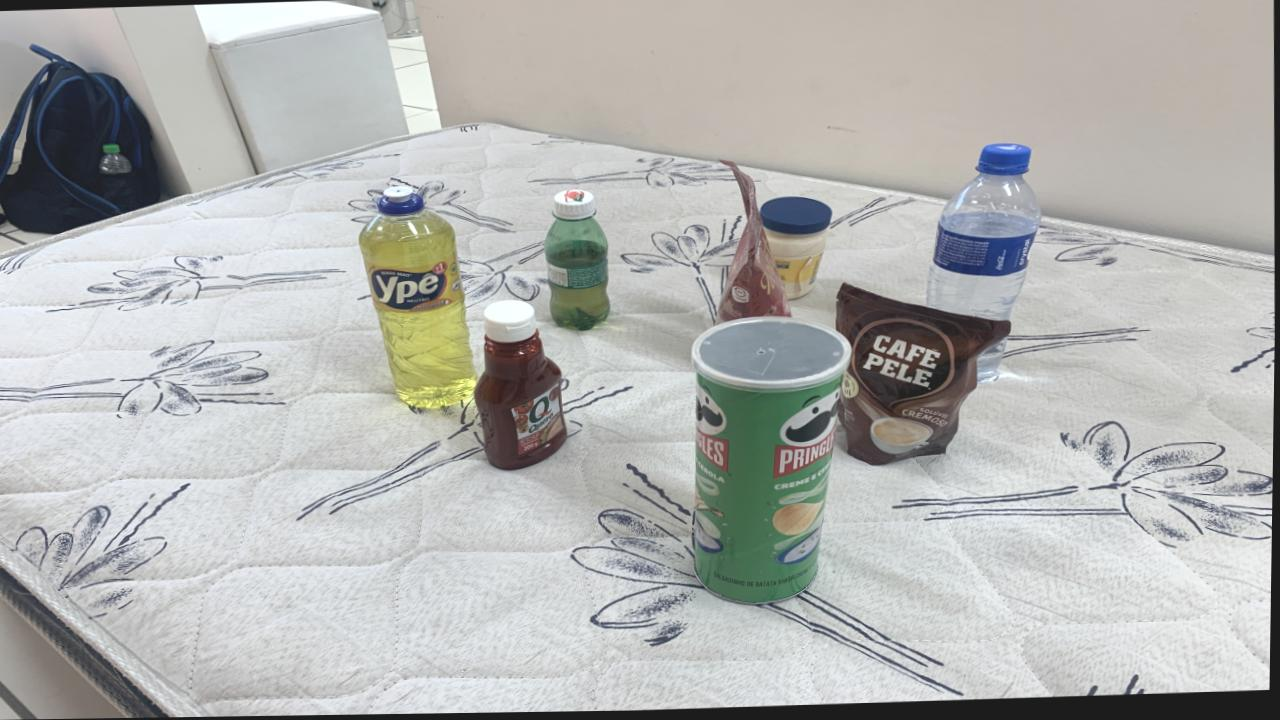Coffee-Pantry_Items: (838, 287, 1011, 469), (998, 280, 1000, 284), (1003, 211, 1005, 214)
Coke-Drinks: (360, 187, 478, 409)
Detergent-Cleanup_Items: (360, 187, 478, 409)
Guarana-Drinks: (545, 191, 611, 332)
Ketchup-Pantry_Items: (476, 302, 569, 471)
Mayonnaise-Pantry_Items: (760, 199, 833, 301)
Pringles-Snacks: (693, 318, 853, 606)
Tomato_Sauce-Pantry_Items: (718, 162, 793, 324), (543, 381, 548, 385)
Water_Bottle-Drinks: (928, 147, 1043, 323), (978, 344, 1006, 386)
